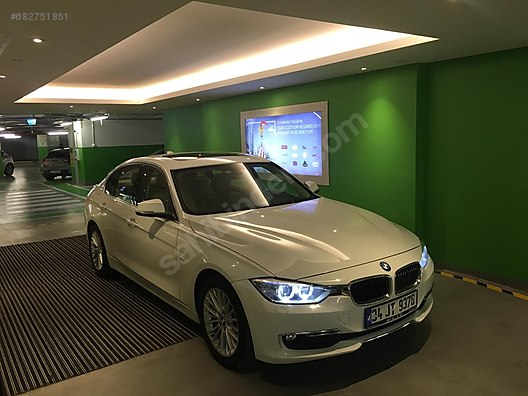bmw: (83, 145, 441, 371)
